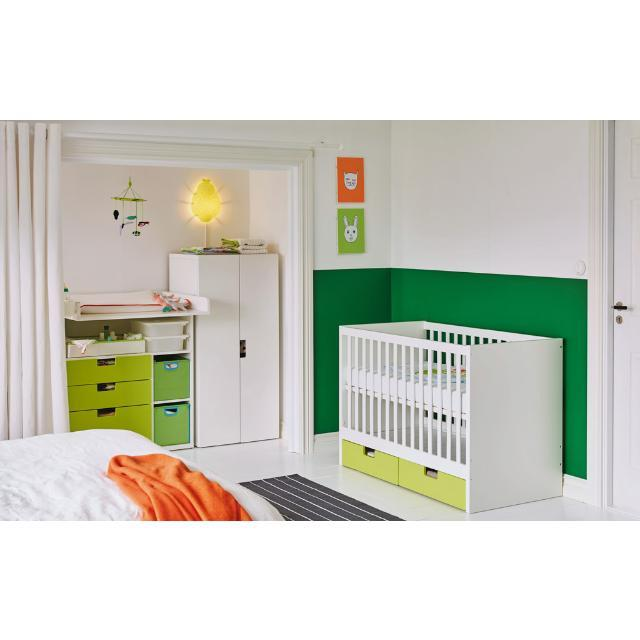bed: (0, 429, 179, 520), (180, 458, 284, 520)
curtain: (0, 121, 69, 438)
dresser: (170, 253, 280, 446), (66, 354, 152, 438)
lamp: (191, 178, 220, 221)
rug: (240, 474, 404, 521)
wall-art: (338, 156, 364, 201), (338, 208, 364, 252)
